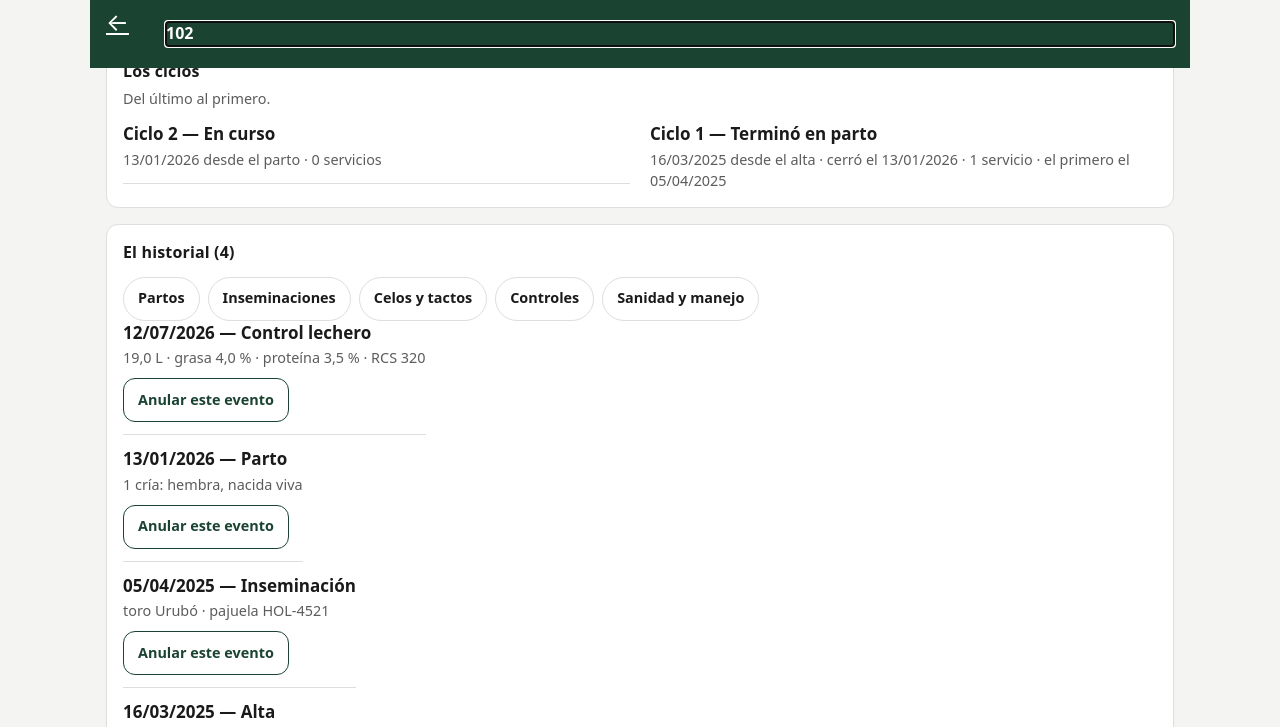
anular › cancelar cierra el formulario sin mandar nada
(page scrolled)
Click the button "Anular este evento" below "12/07/2026".
click(206, 400)  # box [123, 378, 289, 422]
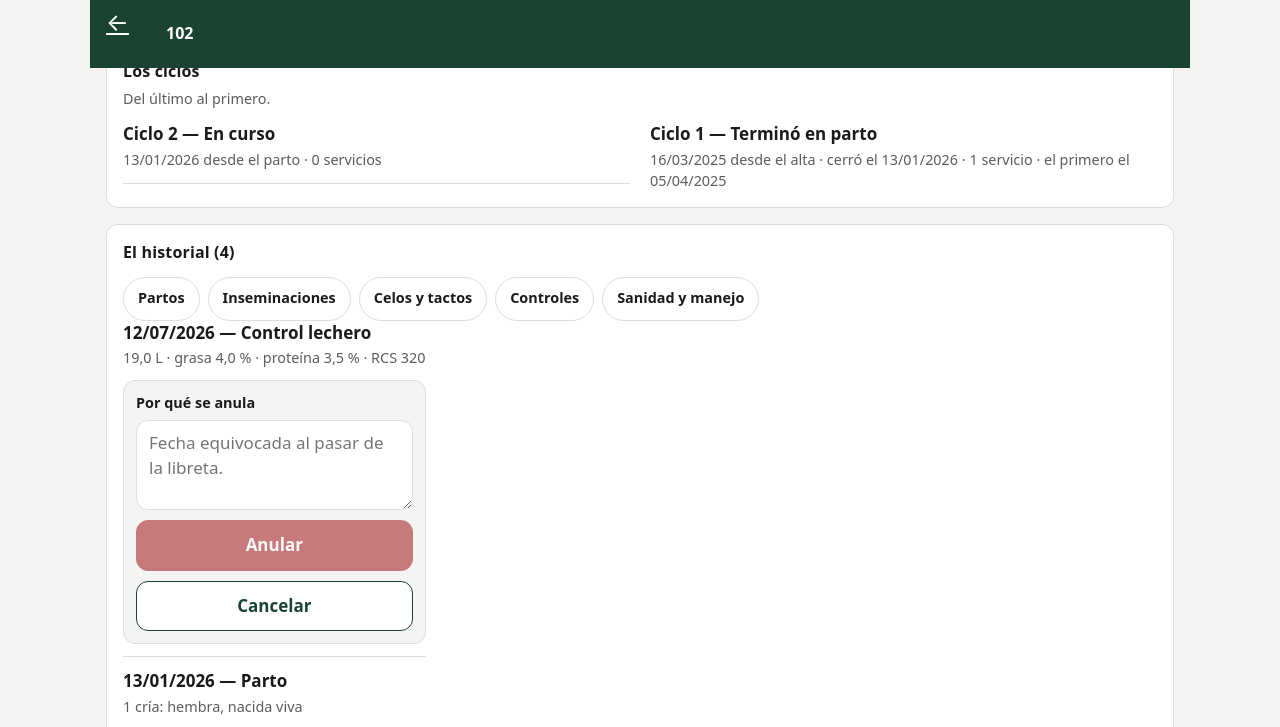
Click the button "Cancelar".
click(274, 606)  # box [136, 581, 412, 631]
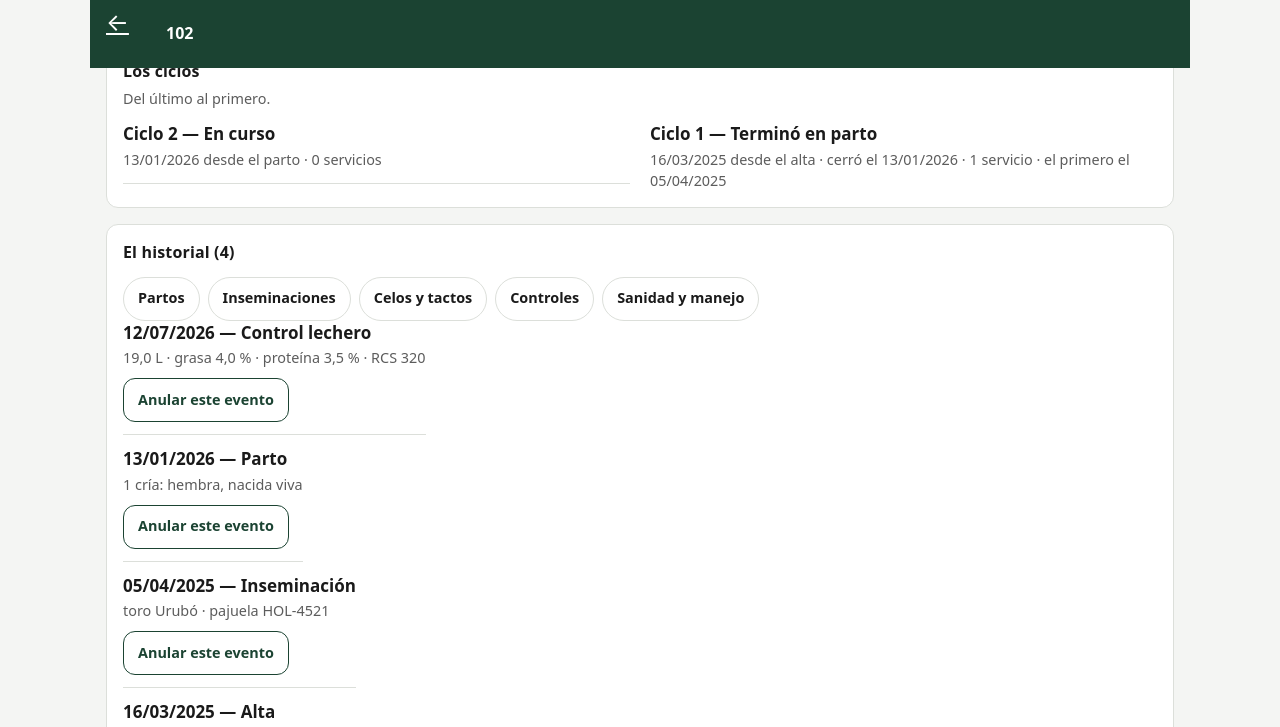
Expected: the text labelled "Por qué se anula" is gone
